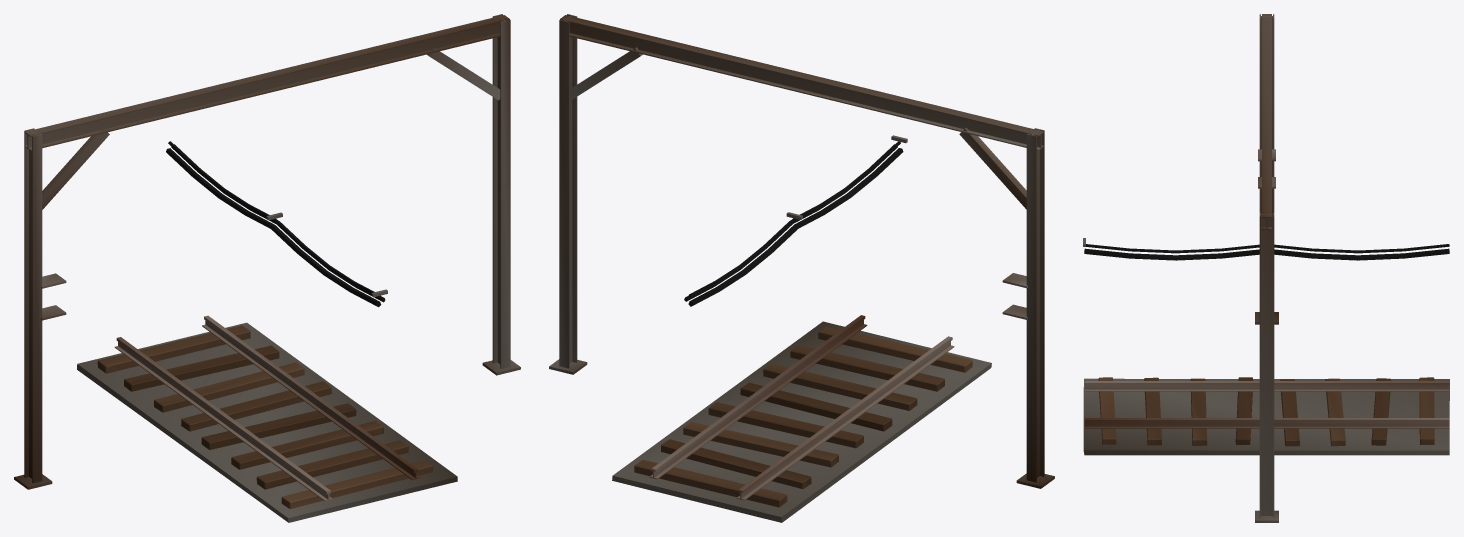
Rendered from r2_tunel.glb.
3 views of the same model, side by side, from view 1: azimuth 30°, elevation 25°; view 2: azimuth 150°, elevation 25°; view 3: azimuth 270°, elevation 25° (orthographic). The views are drawn at different scales.
Parts seen in each view (by area): view 1: via_6m, cambota, cabos_6m; view 2: via_6m, cambota, cabos_6m; view 3: via_6m, cambota, cabos_6m.
Boxes of the visible parts, x1,y1,x2,y2 form: via_6m: (77,315,457,522); cambota: (14,14,520,489); cabos_6m: (166,141,387,307); via_6m: (612,315,991,522); cambota: (549,14,1054,488); cabos_6m: (684,135,907,306); via_6m: (1083,377,1449,455); cambota: (1255,14,1278,522); cabos_6m: (1083,238,1449,260).
Bounding box in the file's own units: 8.12 × 5.52 × 6.03.
